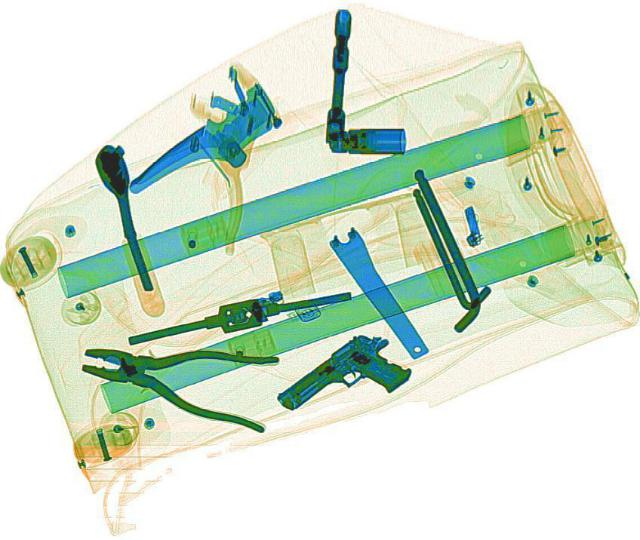Gun: (271, 322, 423, 437)
Pliers: (69, 321, 285, 430)
